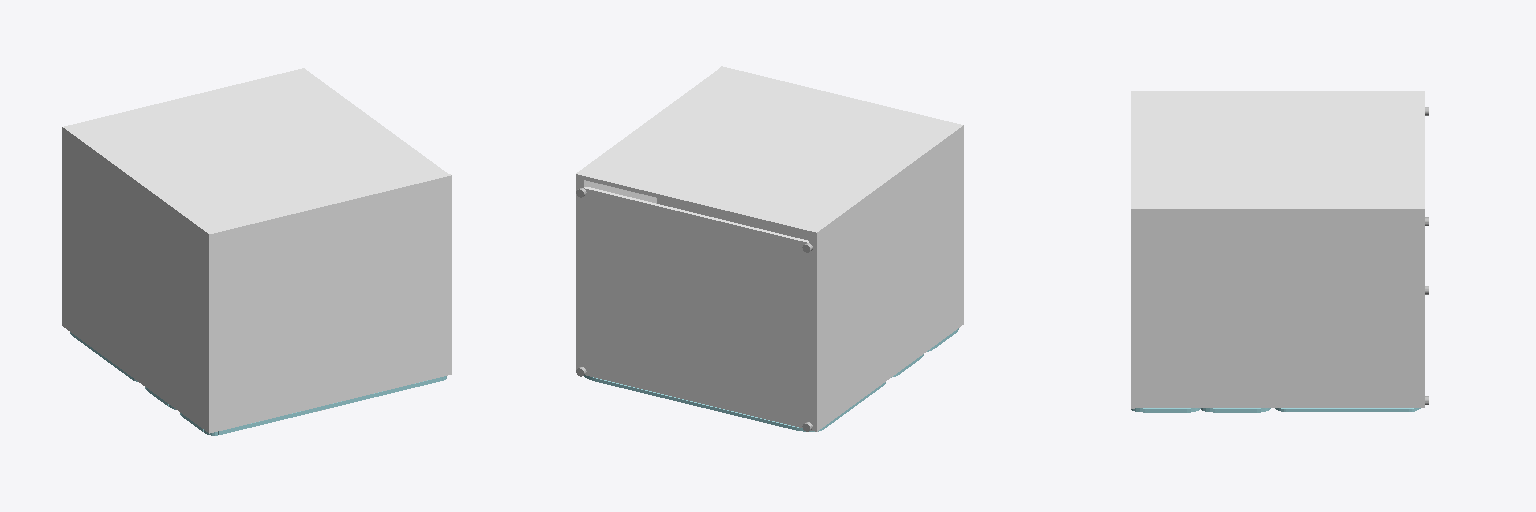
The model's file is StuvaFritidsChest_Blue.obj.
The picture shows the model from 3 angles: view 1: azimuth 30°, elevation 25°; view 2: azimuth 150°, elevation 25°; view 3: azimuth 270°, elevation 25°; orthographic projection.
Parts seen in each view (by area): view 1: obj_0; view 2: obj_0; view 3: obj_0.
Part boxes in pixels (bbox=[...]): obj_0: bbox=[62, 68, 451, 435]; obj_0: bbox=[576, 66, 963, 431]; obj_0: bbox=[1131, 91, 1428, 412].
Bounding box in the file's own units: 60 × 50 × 64.